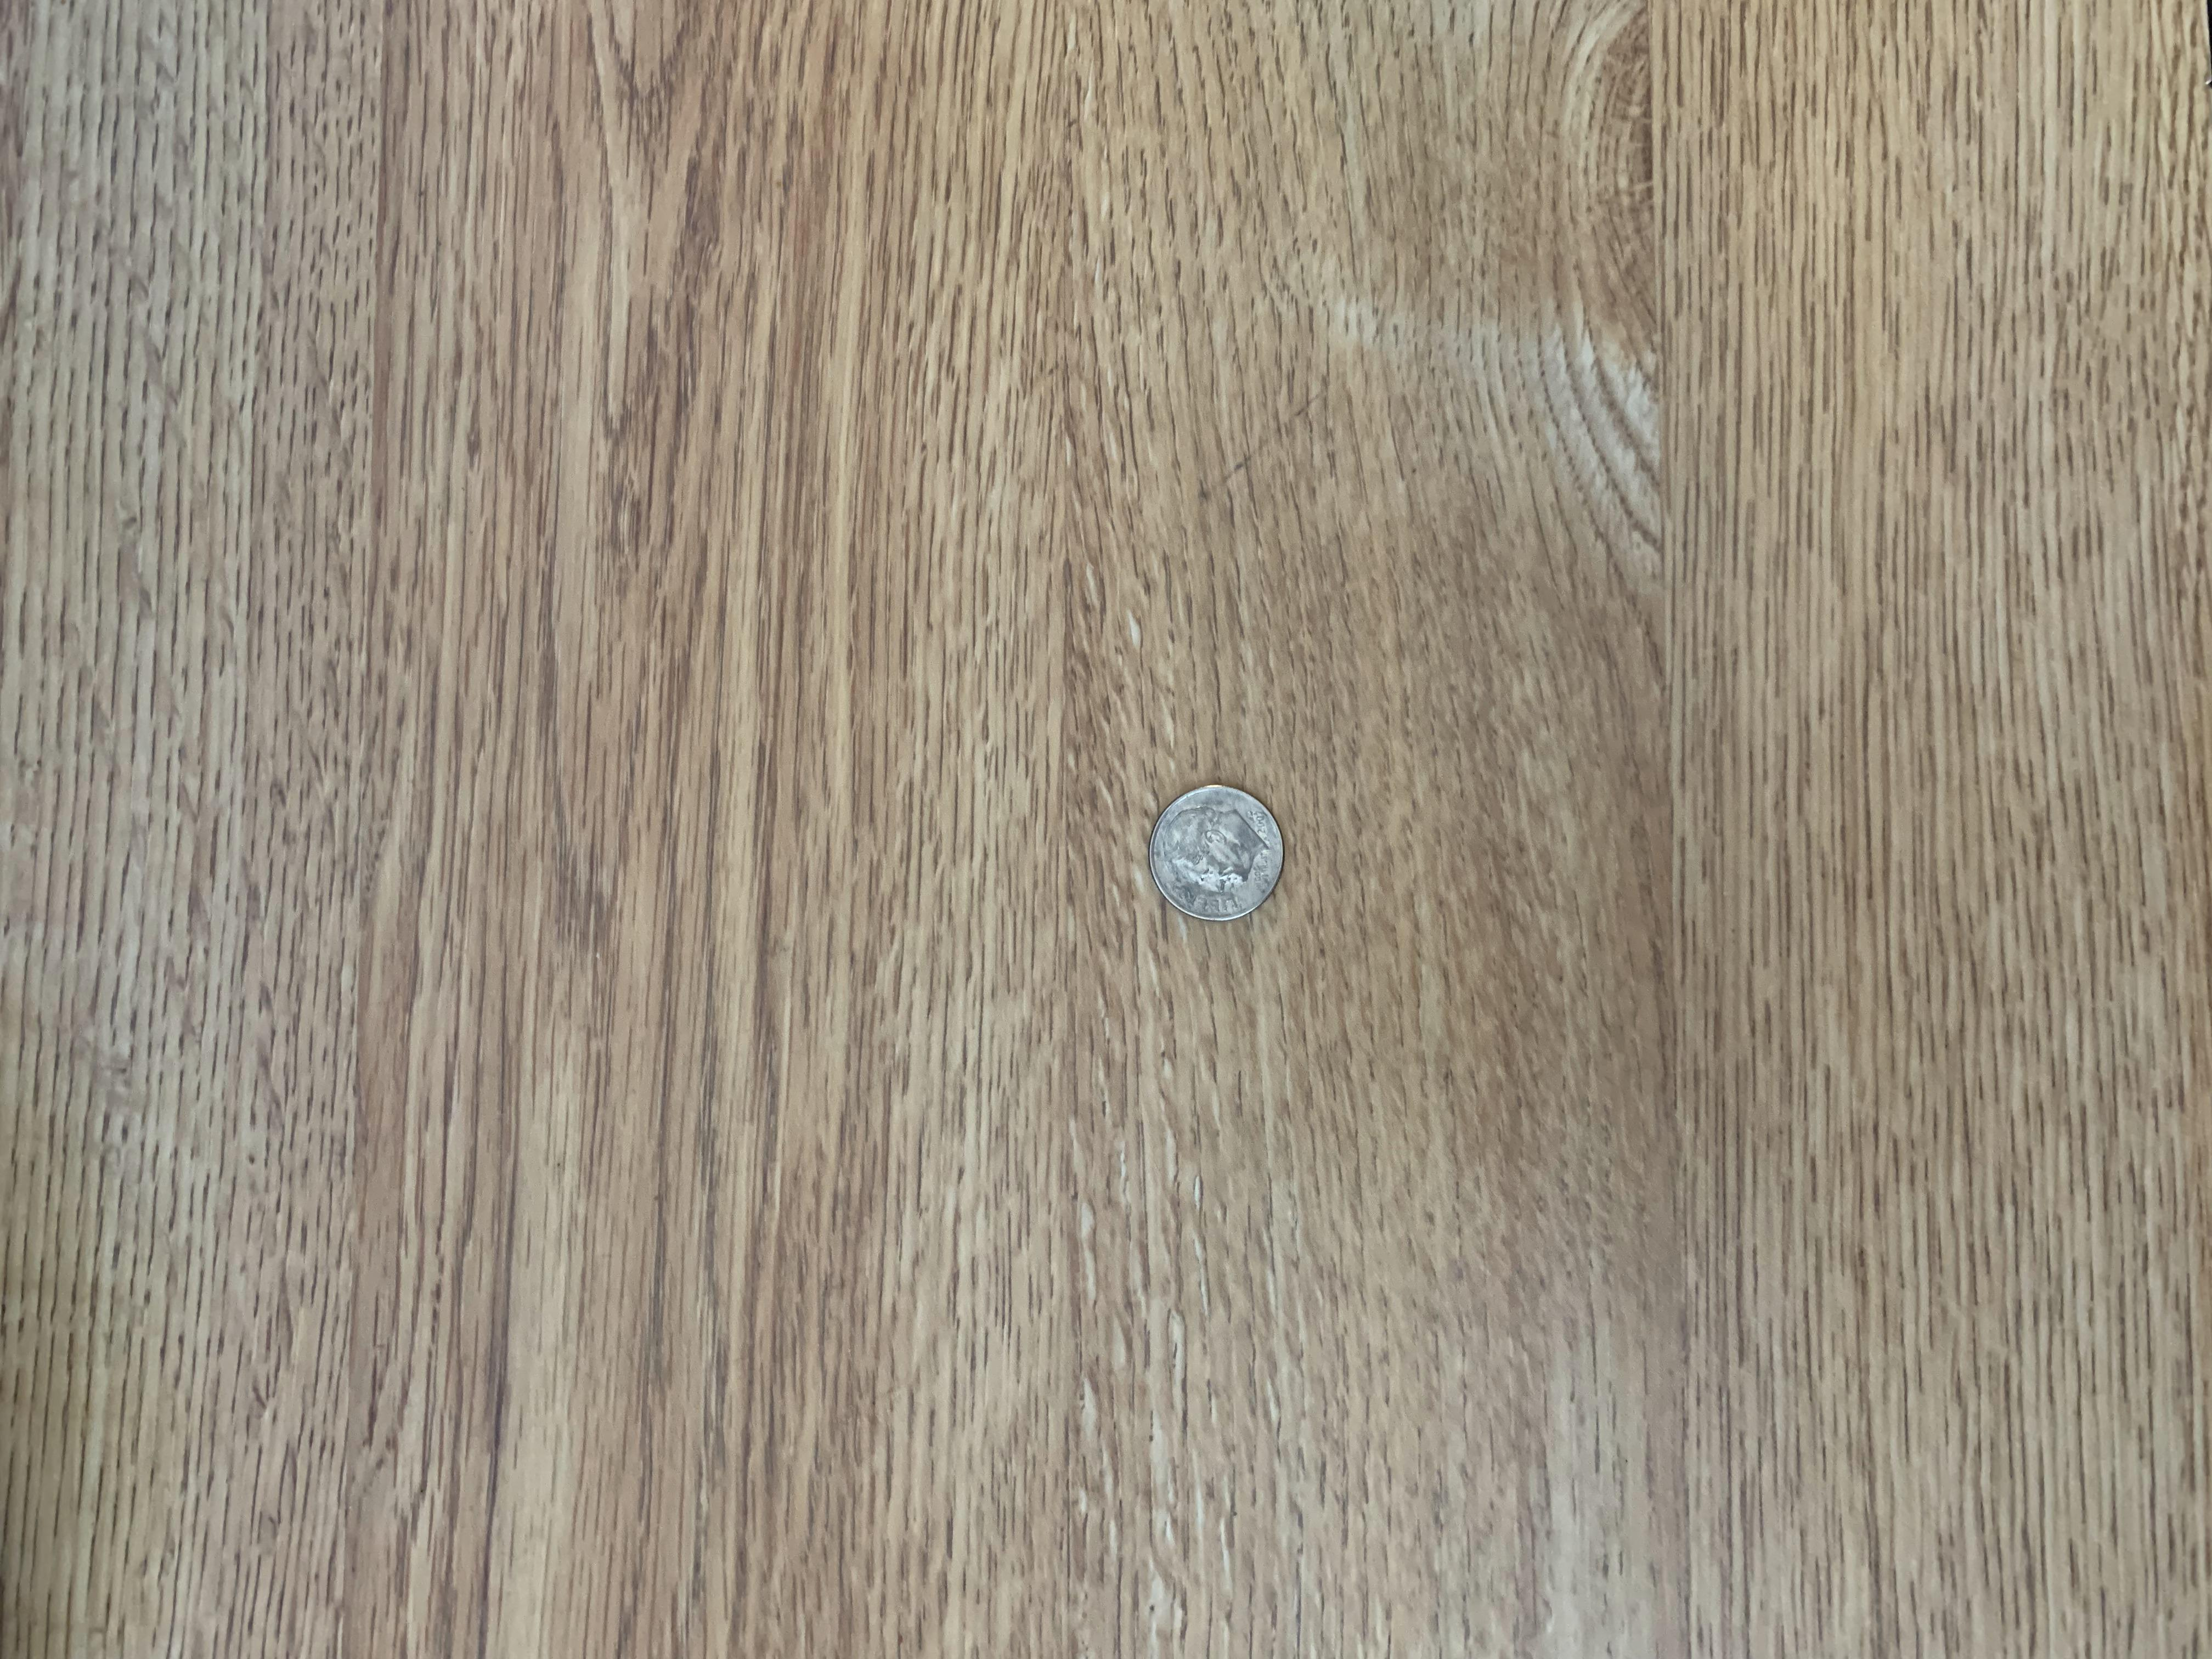Dime: (1146, 779, 1292, 925)
